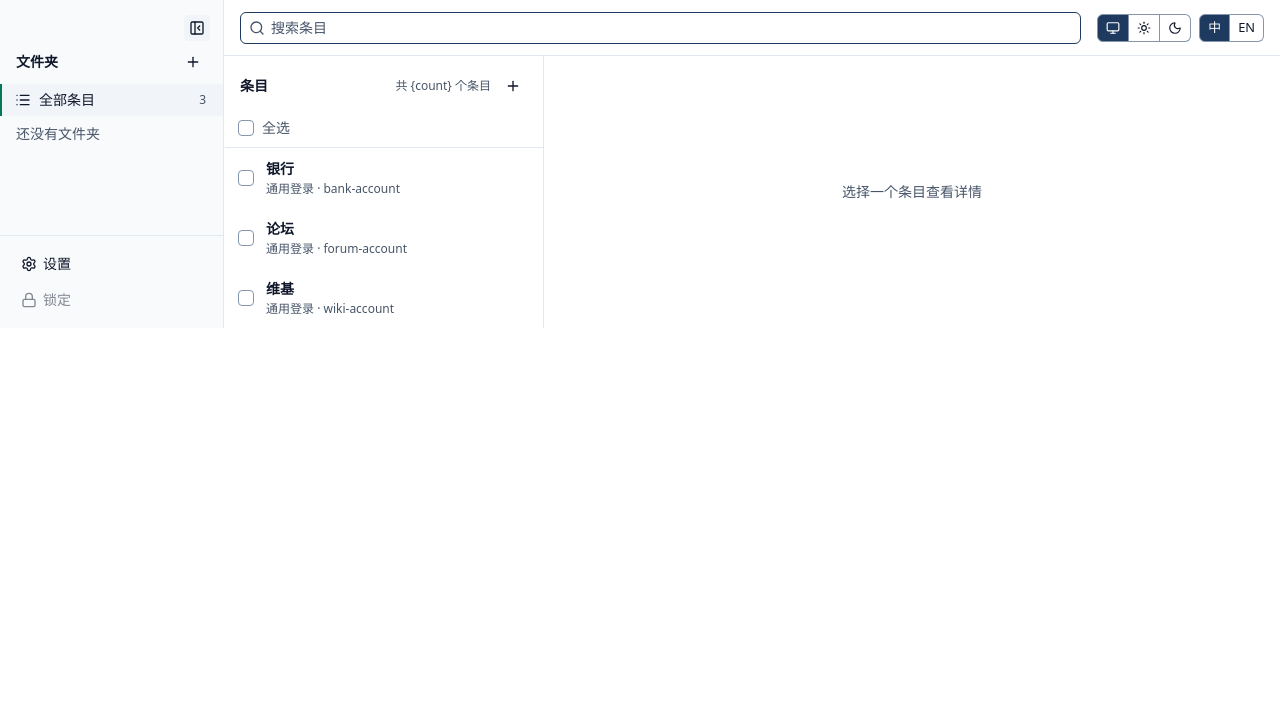
Test case: 工作区取消删除与搜索中删除 › 取消删除后条目保留
The width and height of the screenshot is (1280, 720).
Click the button "银行 通用登录 · bank-account" at (400, 178), box [258,148,543,208]
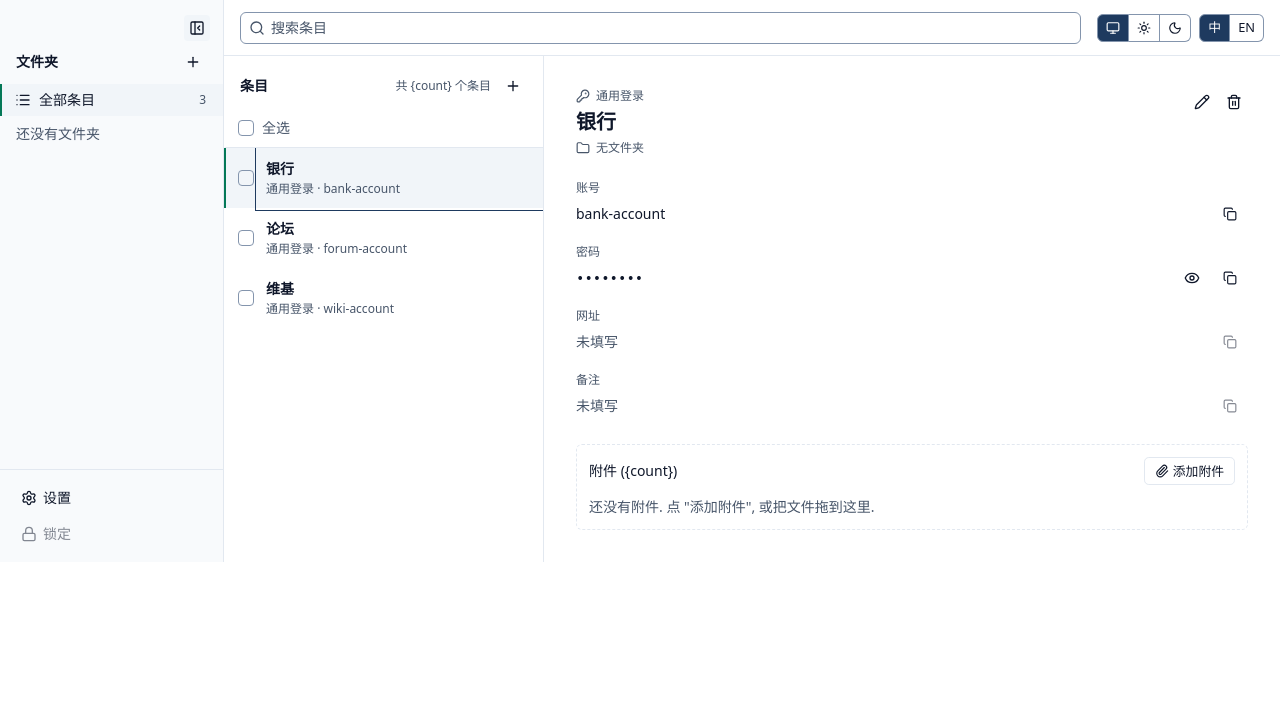
Check: the heading "银行" is shown, box [576,108,616,135]
Click the button named "删除条目" at (1234, 102), box [1220,88,1248,116]
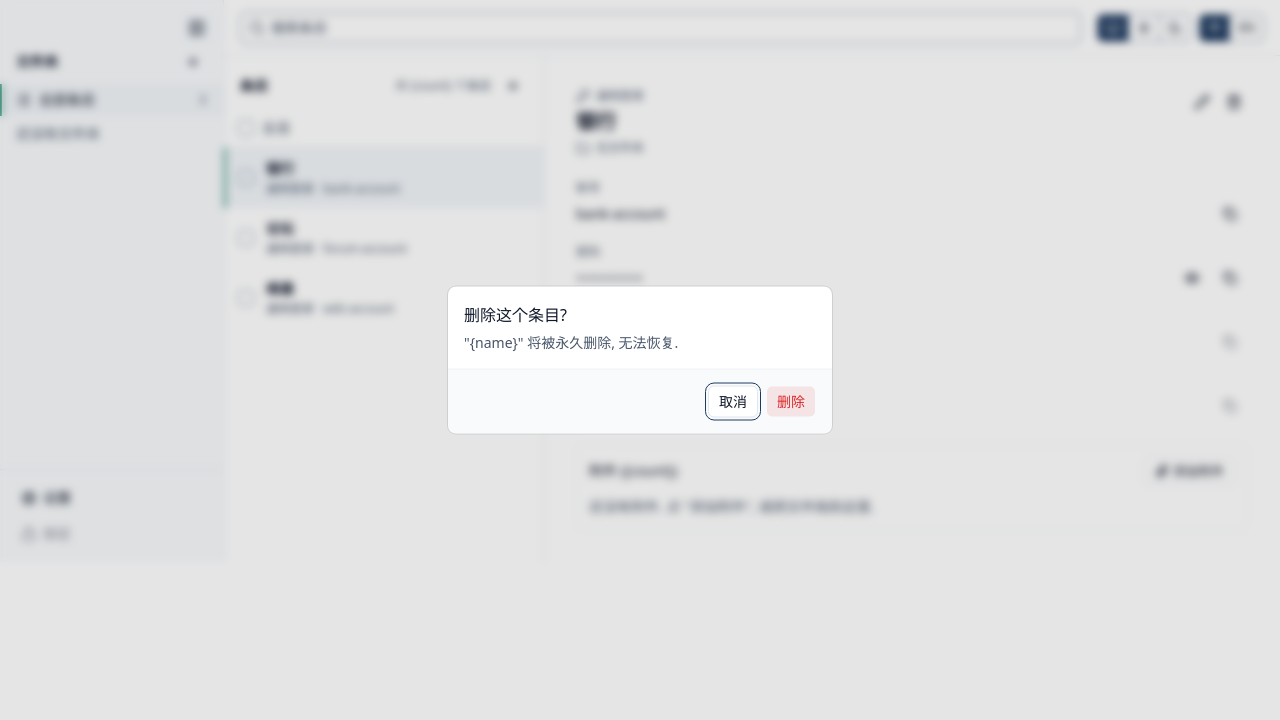
Click the button "取消" at (733, 402), box [708,386,758,418]
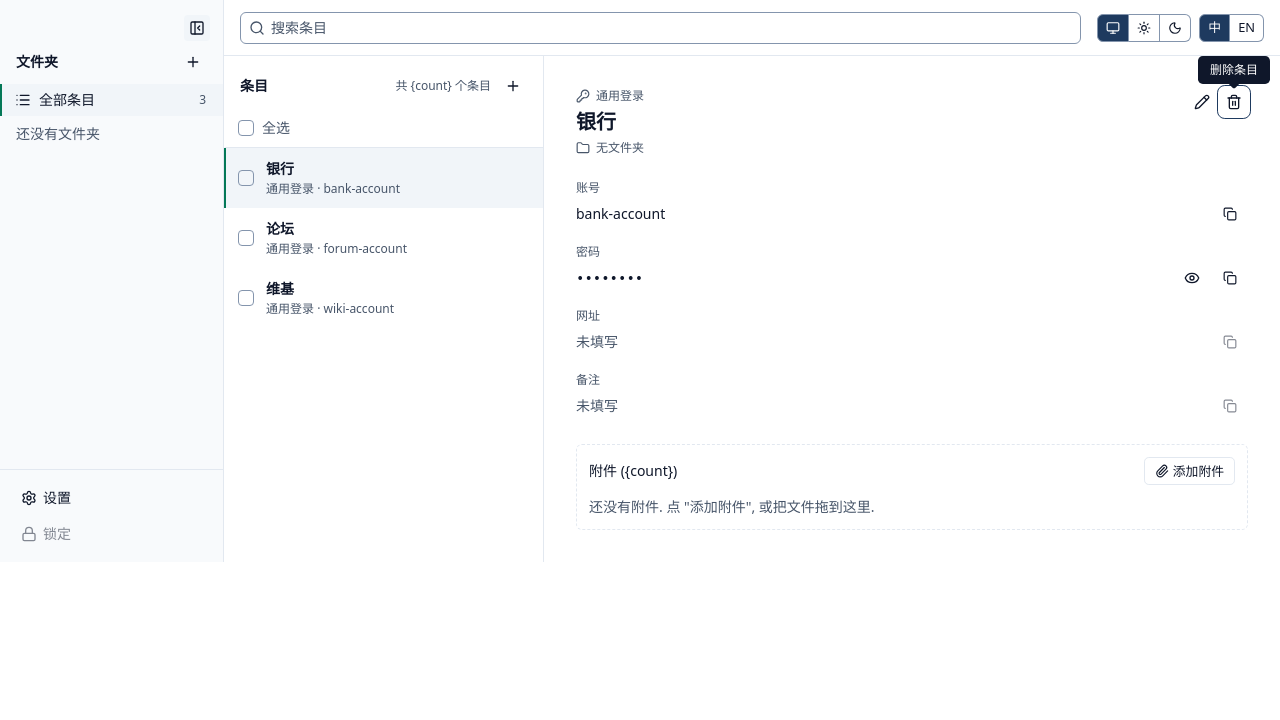
Check: the dialog is gone
